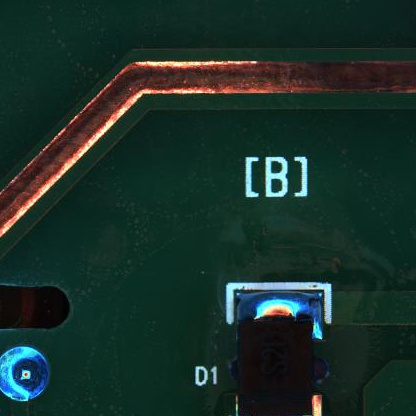spot: (1, 347, 50, 402)
